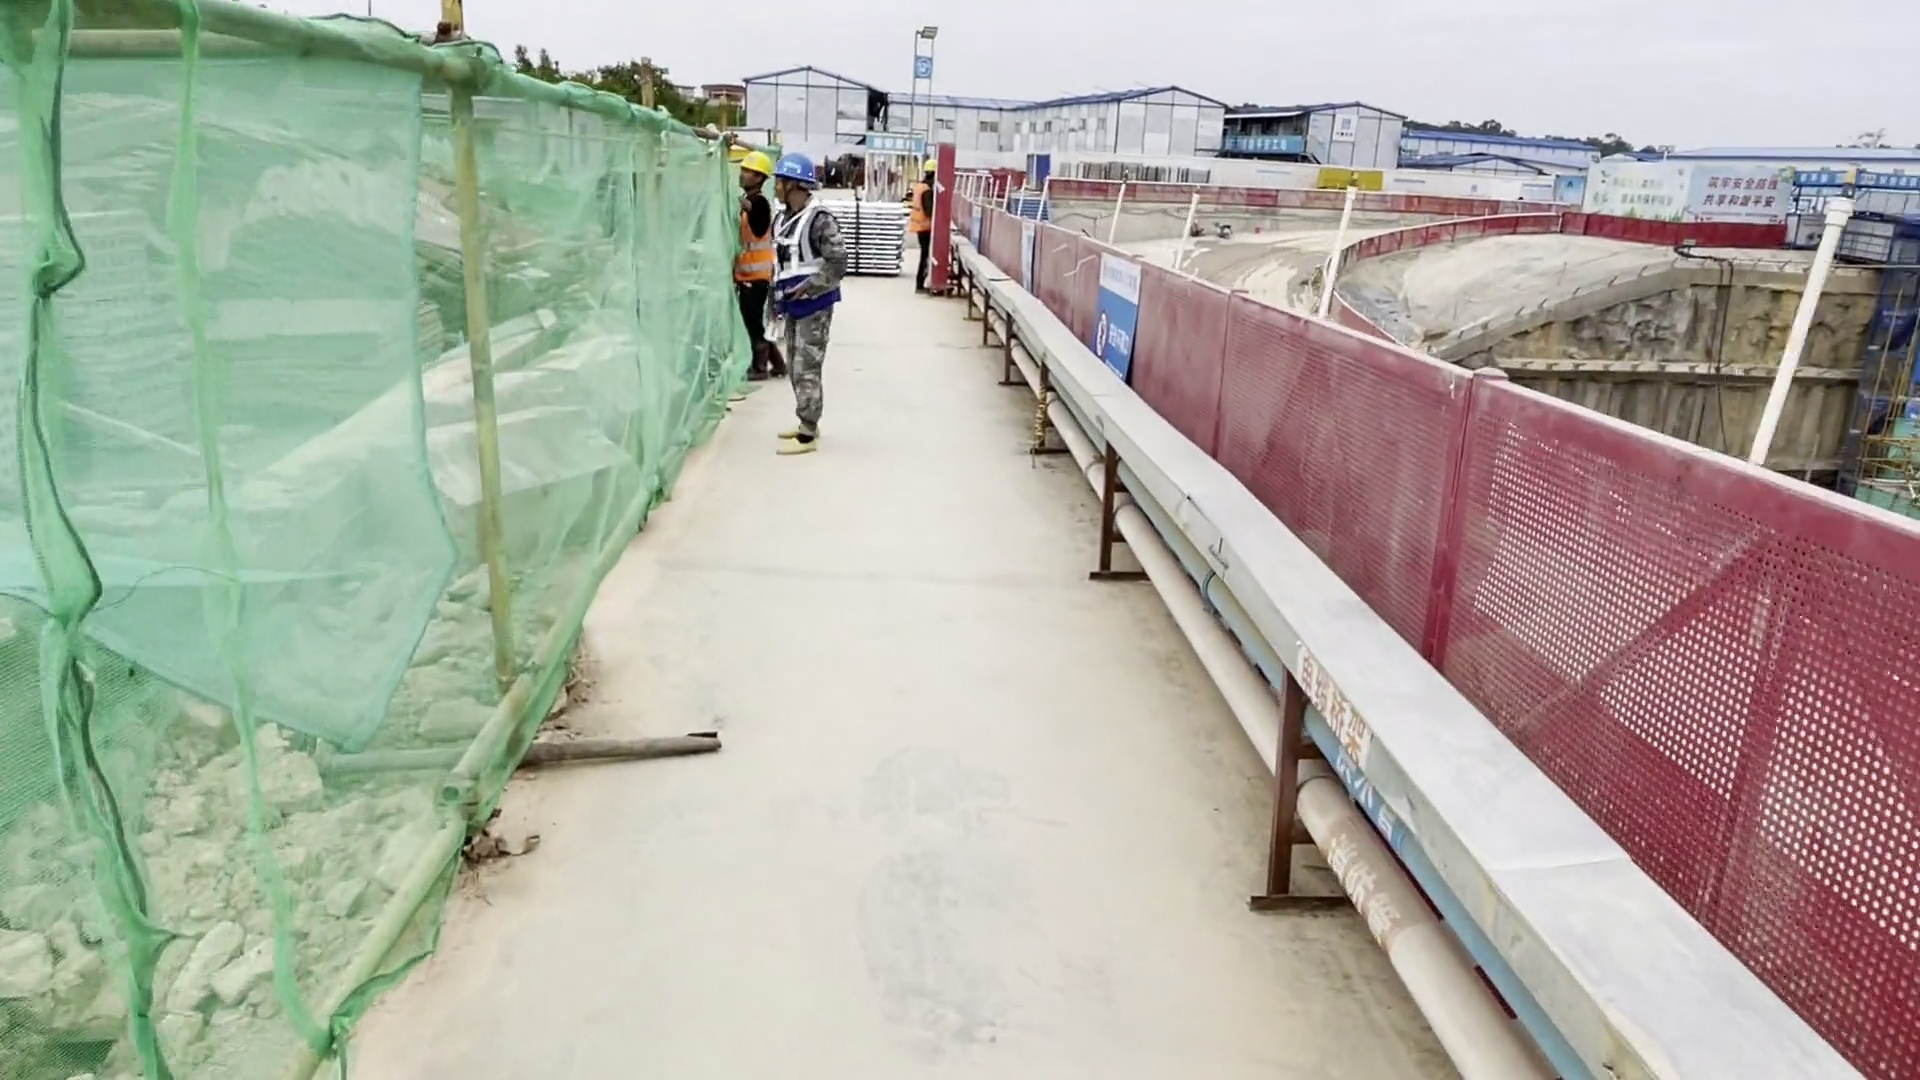helmet: (727, 141, 789, 189), (766, 150, 812, 193)
scaffold: (824, 193, 901, 273)
slogan: (1553, 142, 1875, 262)
vest: (773, 203, 843, 326), (723, 193, 773, 285)
